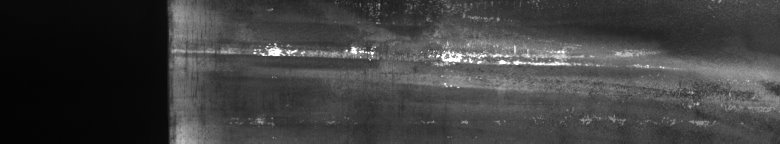kb: (176, 4, 776, 127)
